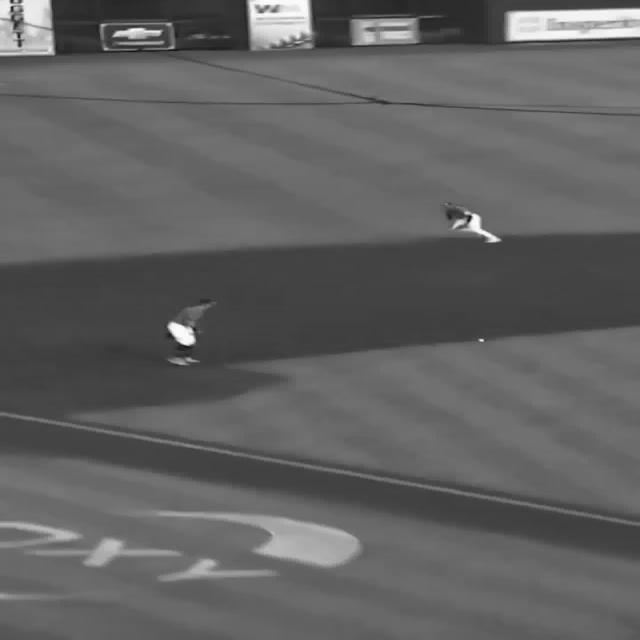baseball: (476, 338, 484, 342)
shoe: (165, 356, 189, 366), (484, 235, 502, 242), (183, 356, 200, 363)
